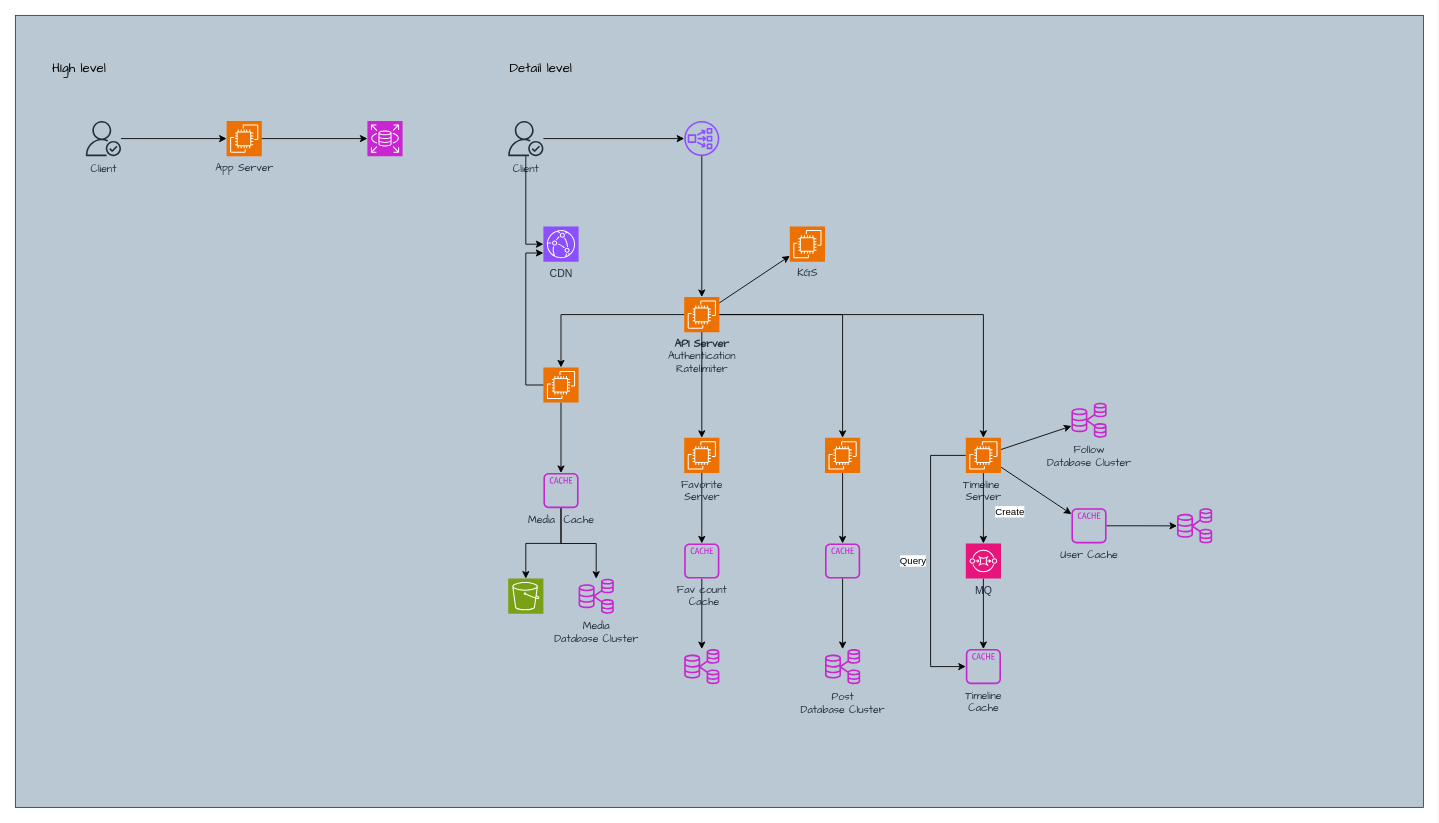
Some shapes in this 1439 by 823 pixel diagram are drawn without their labels. The box of each missing label's shape, as (x1, y1, x2, y2) in pixels:
Database: (367, 120, 403, 156)
Favorite DB Cluster: (684, 649, 719, 684)
Load Balancer: (684, 121, 719, 156)
Media Server: (543, 367, 579, 403)
Post Cache: (825, 543, 860, 578)
Post Server: (824, 437, 860, 473)
Storage: (507, 578, 543, 614)
User Database Cluster: (1177, 508, 1212, 543)
